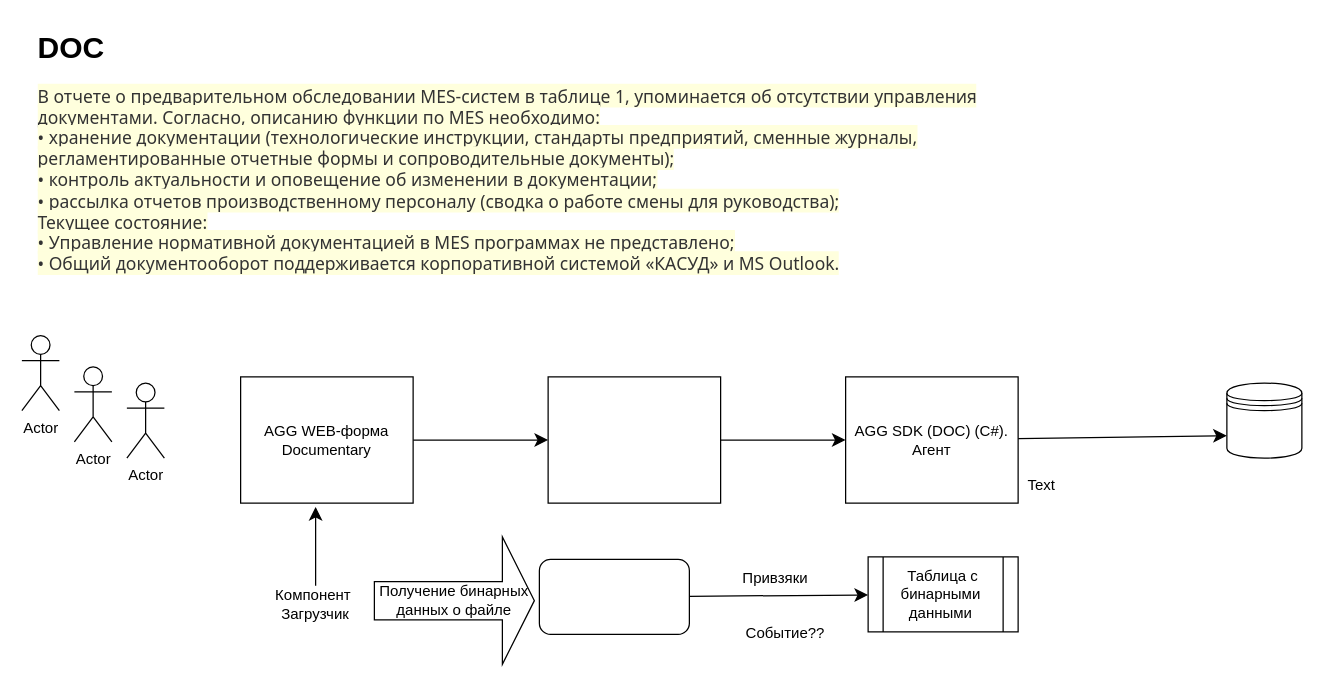
Some shapes in this 1324 by 686 pixel diagram are drawn without their labels. Here are the shapes that lost their labels. From the top down, the centre of each, then its label:
[634,439]: AGG DEV
[1264,420]: БД
[613,596]: Модель данных doc
